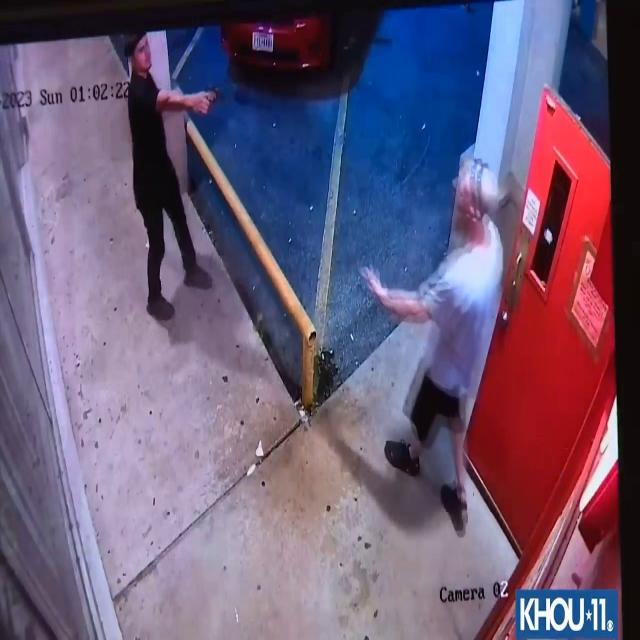penembakan: (118, 28, 223, 328)
